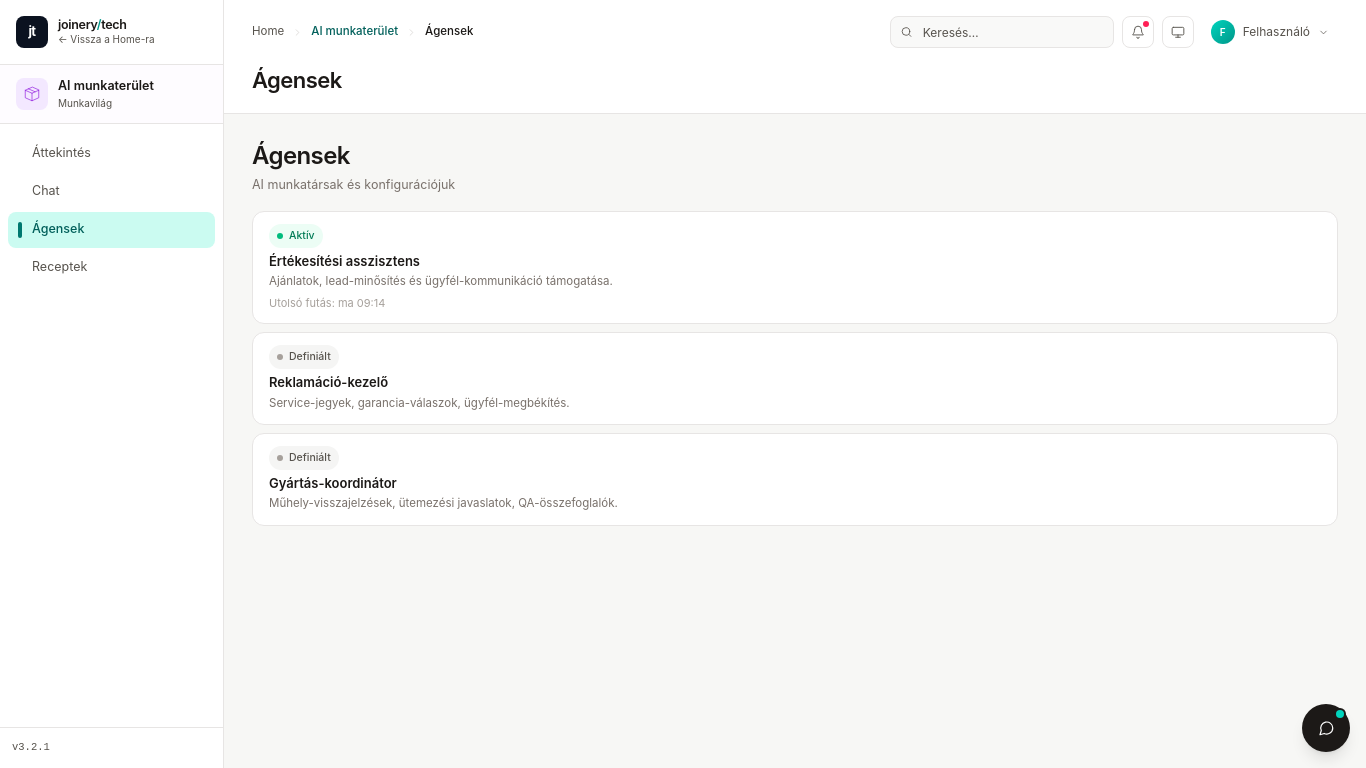
AiPage › clicking agent opens detail SlideOver
Click the text "Értékesítési asszisztens": click(344, 261) [269, 253, 420, 269]
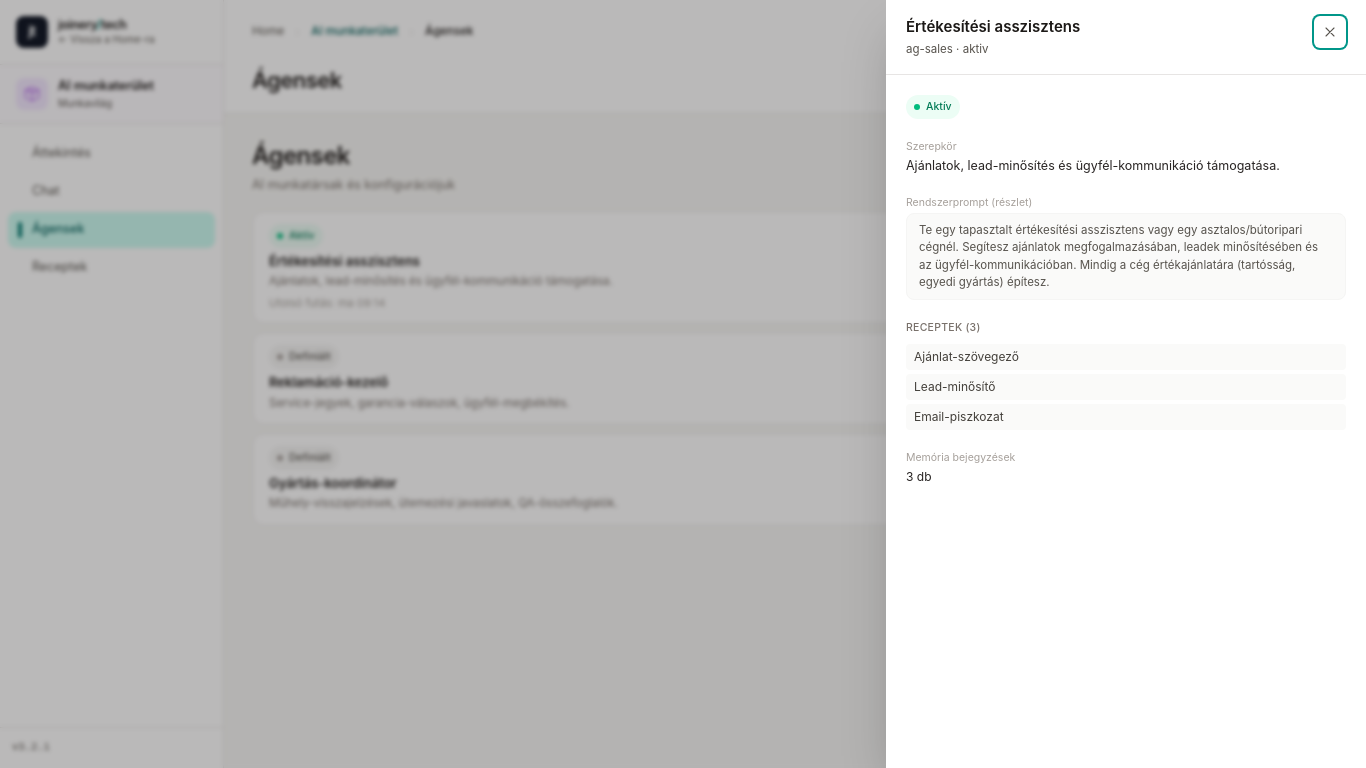
Now the text "ag-sales · aktiv" is shown, box [906, 42, 988, 56]
